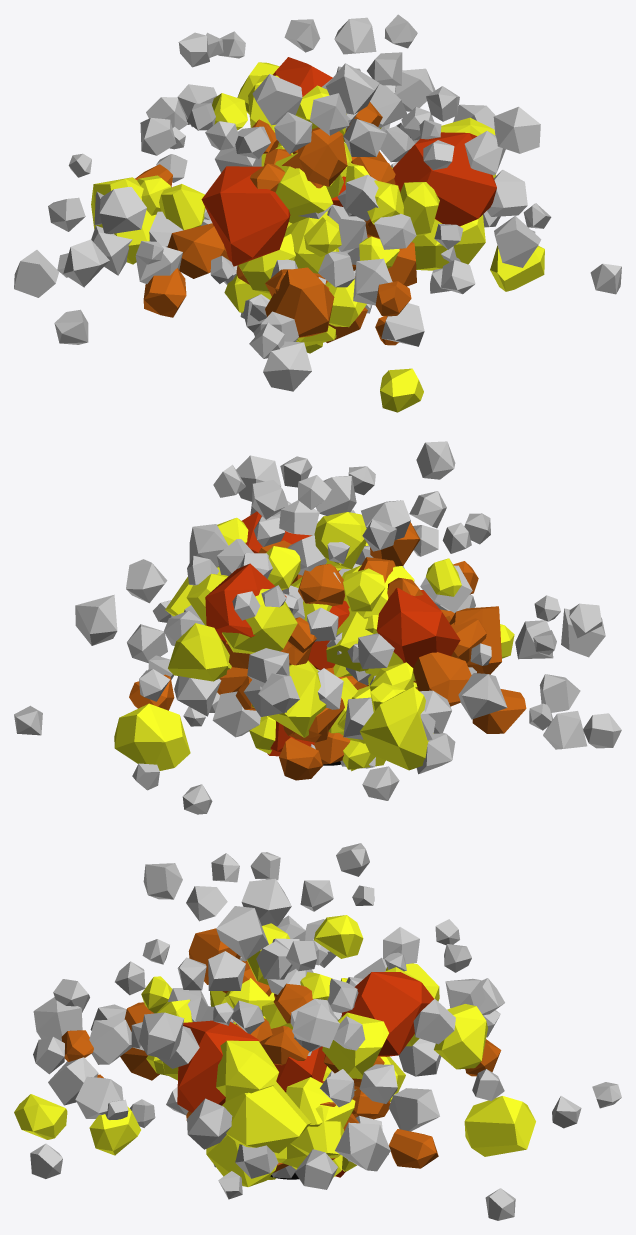
Rendered from Explosion0034.obj.
The picture shows the model from 3 angles, top to bottom: view 1: azimuth 30°, elevation 25°; view 2: azimuth 150°, elevation 25°; view 3: azimuth 270°, elevation 25°; orthographic projection. The views are drawn at different scales.
Parts seen in each view (by area): view 1: Cube_Material, Cube.002_Material.003, Cube.001_Material.002, Cube.003_Material.004; view 2: Cube_Material, Cube.002_Material.003, Cube.001_Material.002, Cube.003_Material.004; view 3: Cube_Material, Cube.002_Material.003, Cube.001_Material.002, Cube.003_Material.004.
Part boxes in pixels (bbox=[...]): Cube_Material: bbox=[14, 14, 621, 391]; Cube.002_Material.003: bbox=[91, 62, 544, 412]; Cube.001_Material.002: bbox=[135, 102, 416, 345]; Cube.003_Material.004: bbox=[201, 57, 496, 266]; Cube_Material: bbox=[14, 441, 621, 814]; Cube.002_Material.003: bbox=[114, 512, 514, 771]; Cube.001_Material.002: bbox=[129, 522, 526, 780]; Cube.003_Material.004: bbox=[205, 511, 460, 756]; Cube_Material: bbox=[30, 843, 621, 1220]; Cube.002_Material.003: bbox=[14, 915, 535, 1186]; Cube.001_Material.002: bbox=[61, 928, 501, 1172]; Cube.003_Material.004: bbox=[177, 972, 433, 1177].
Bounding box in the file's own units: 16.12 × 9.49 × 16.88.
